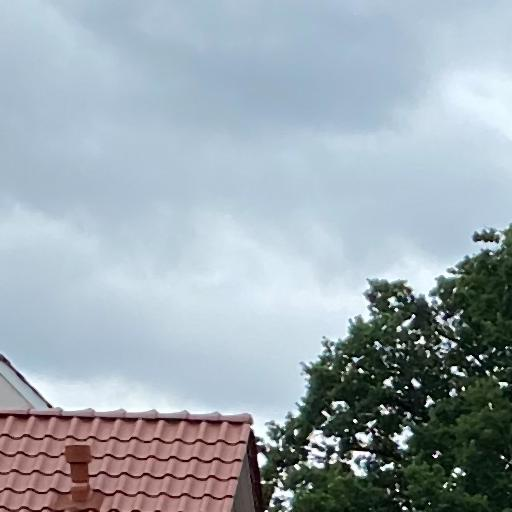tree: (254, 222, 512, 511)
